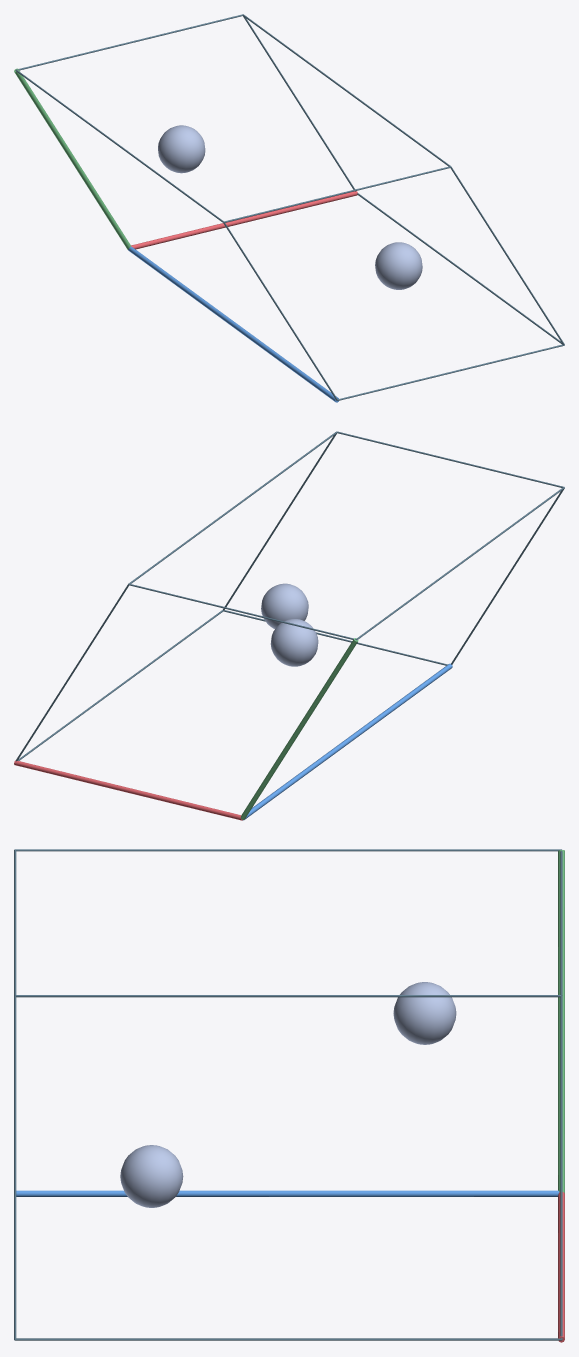
File: nguyen-to-lu.glb
3 views of the same model, one above another, from view 1: azimuth 30°, elevation 25°; view 2: azimuth 150°, elevation 25°; view 3: azimuth 270°, elevation 25° (orthographic). The views are drawn at different scales.
Visible parts, largest first — view 1: Ô mạng và các trục a, b, c, Lu · Lu · 1 (×2); view 2: Ô mạng và các trục a, b, c, Lu · Lu · 1 (×2); view 3: Ô mạng và các trục a, b, c, Lu · Lu · 1 (×2).
Boxes of the visible parts, left/top/right/bottom form: Ô mạng và các trục a, b, c: left=14, top=14, right=564, bottom=402; Lu · Lu · 1 (×2): left=158, top=125, right=422, bottom=289; Ô mạng và các trục a, b, c: left=14, top=431, right=564, bottom=820; Lu · Lu · 1 (×2): left=261, top=583, right=318, bottom=666; Ô mạng và các trục a, b, c: left=14, top=849, right=564, bottom=1342; Lu · Lu · 1 (×2): left=120, top=982, right=456, bottom=1207.
Size of the model in its own units: 5.3 by 3.09 by 5.6.
